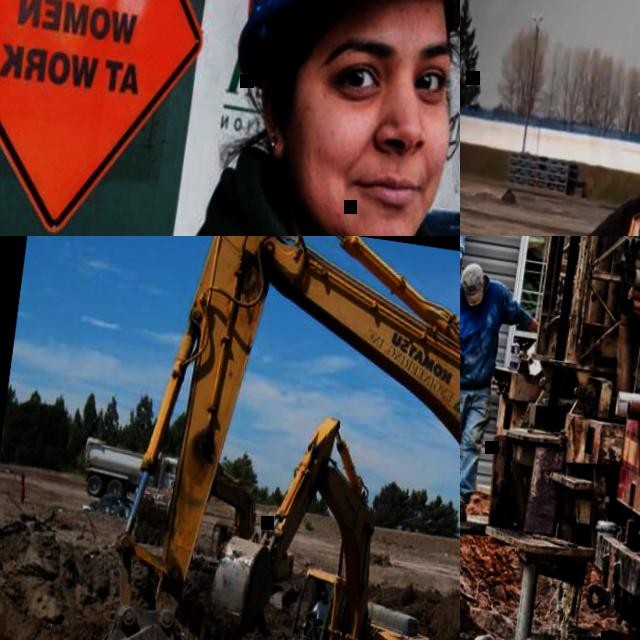Hardhat: (225, 0, 460, 118), (318, 588, 327, 596)
NO-Hardhat: (460, 260, 486, 304)
NO-Mask: (276, 137, 439, 236), (319, 598, 325, 605)
NO-Safety Vest: (460, 275, 506, 386), (313, 601, 327, 622)
Person: (61, 0, 460, 236), (460, 256, 548, 525), (299, 586, 331, 640)
vehicle: (63, 236, 460, 640), (181, 402, 460, 640), (575, 344, 640, 635), (595, 0, 640, 236), (77, 436, 183, 510)
